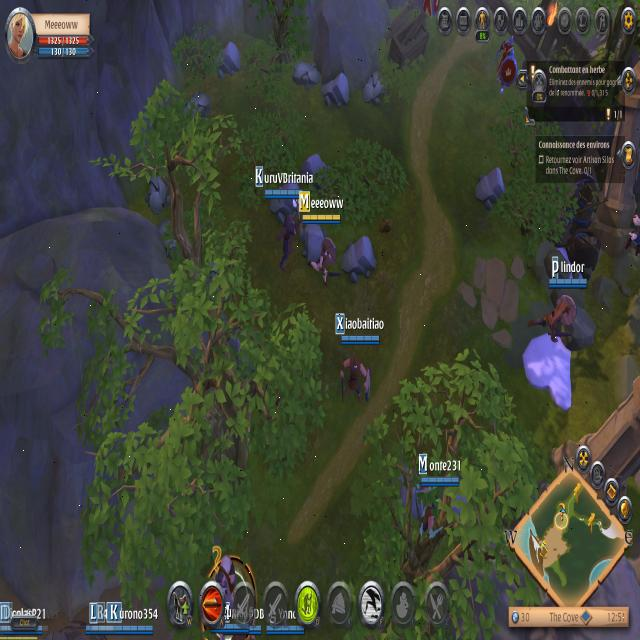broken stone: (145, 168, 173, 212), (181, 88, 212, 127), (290, 56, 321, 92), (362, 69, 388, 110)
stone: (340, 236, 378, 284), (472, 167, 507, 212), (213, 33, 241, 80), (321, 70, 352, 110), (302, 152, 331, 193), (302, 215, 324, 266)
